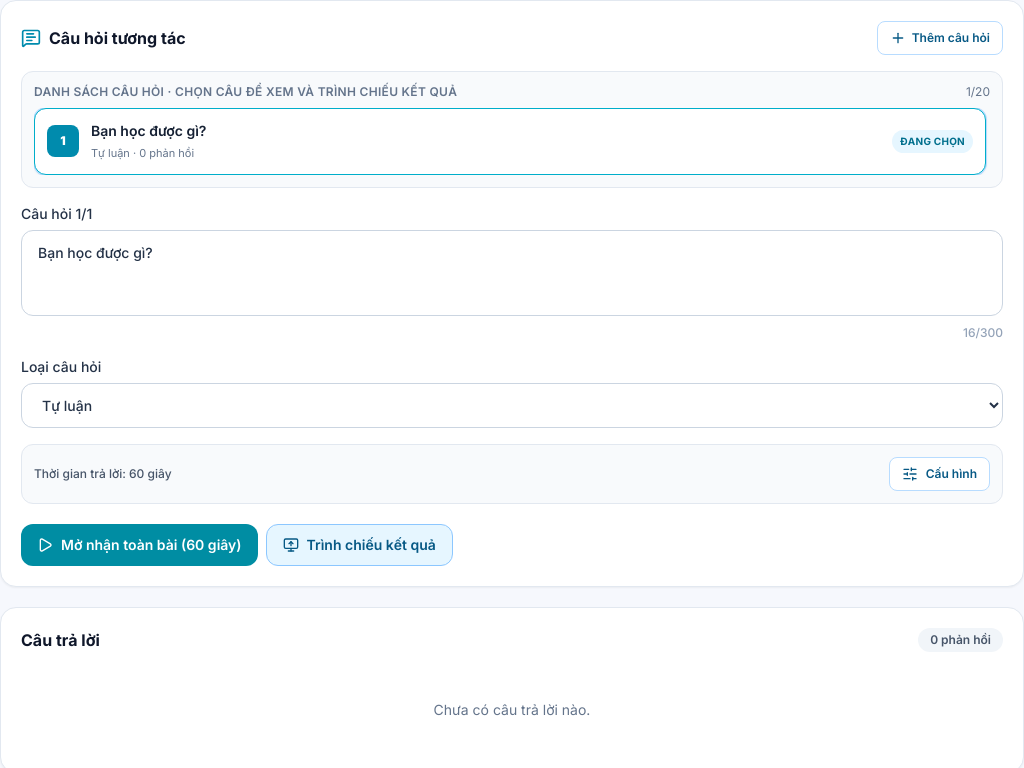
Test case: creates an additional question in the shared interaction
The width and height of the screenshot is (1024, 768).
Click the button "Thêm câu hỏi": (940, 38) left=877, top=21, right=1003, bottom=55
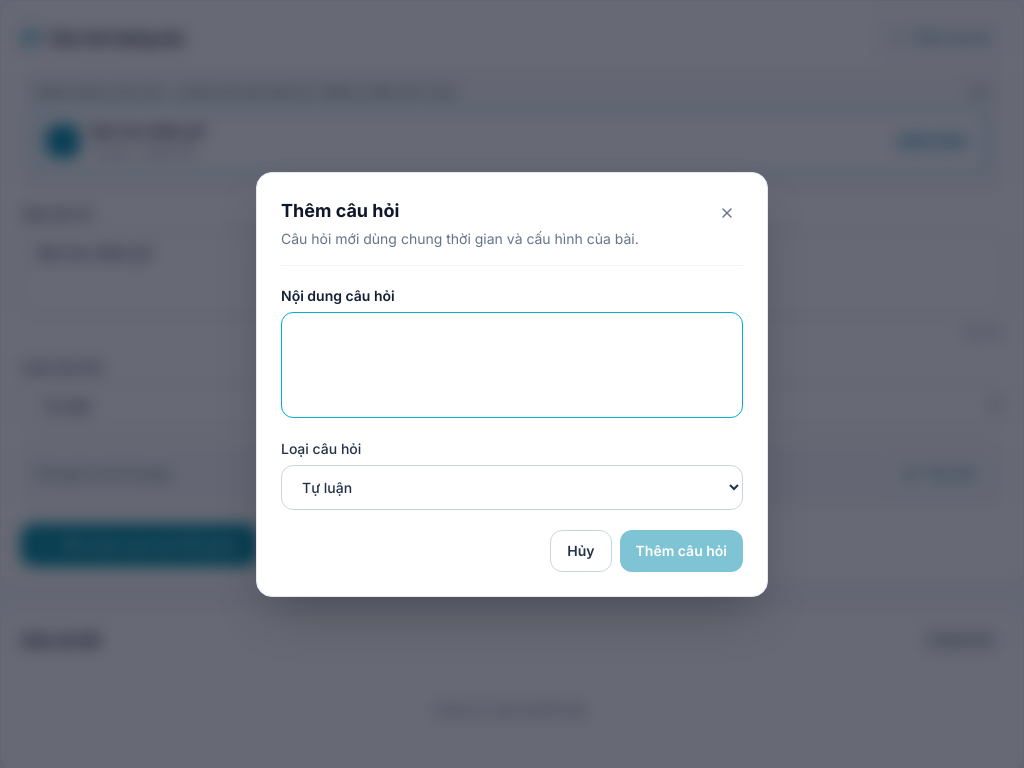
In the text box labelled "Nội dung câu hỏi": (512, 364) left=281, top=312, right=743, bottom=418, type "Câu hai"
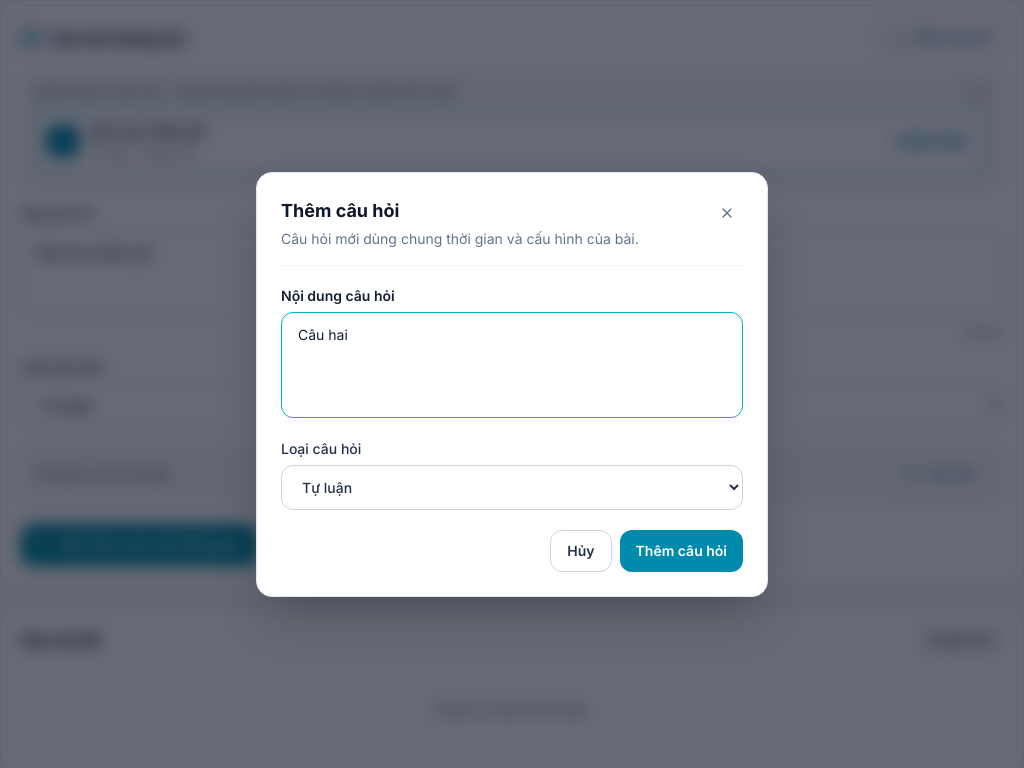
Click the button "Thêm câu hỏi": (681, 550) left=620, top=530, right=743, bottom=572
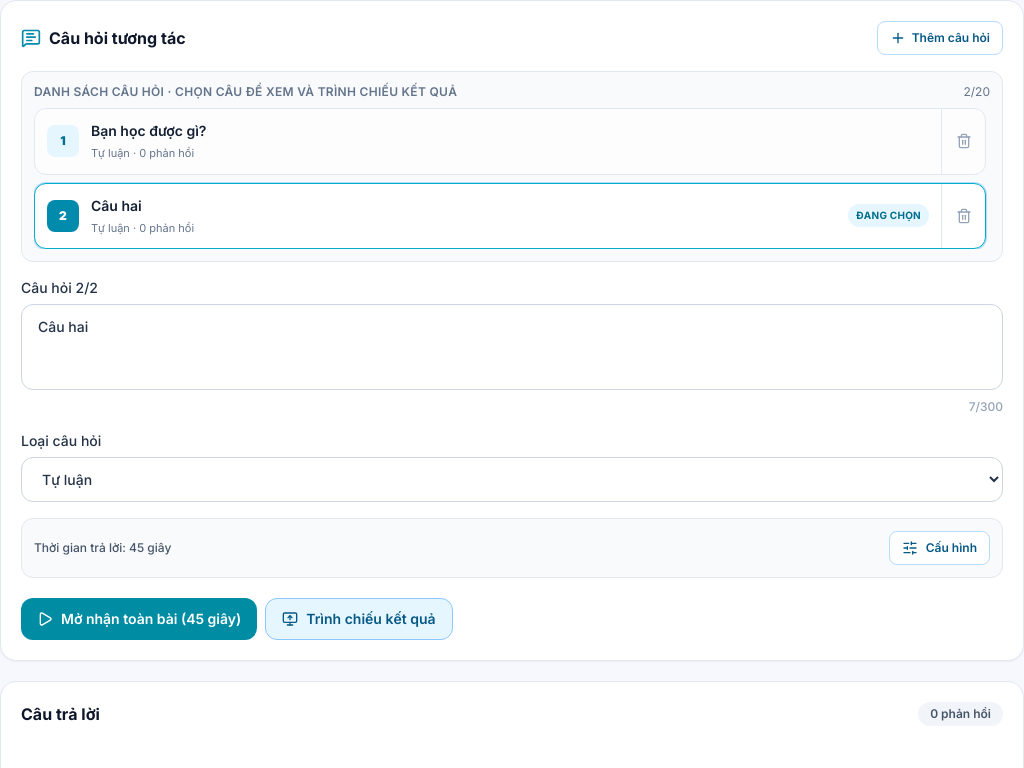
Expected: the text "Câu hai" is shown, left=91, top=196, right=142, bottom=214
